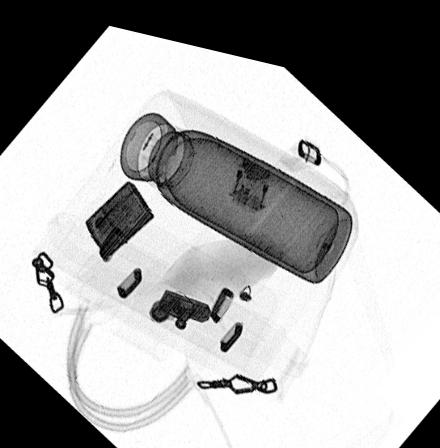Lighter: (83, 174, 153, 251)
